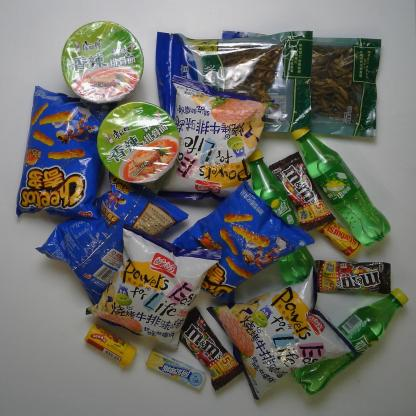Candy: (82, 321, 140, 371), (143, 348, 208, 392), (314, 214, 365, 261)
Chocolate: (172, 306, 248, 393), (266, 151, 338, 235), (310, 258, 395, 298)
Dried Food: (214, 27, 384, 142), (153, 29, 317, 138)
Drink: (288, 120, 392, 249), (289, 286, 409, 396), (243, 146, 318, 288)
Instant Noodles: (60, 19, 145, 105), (96, 100, 181, 185)
Puffed Food: (31, 165, 191, 311), (204, 264, 359, 402), (81, 219, 225, 354), (172, 176, 318, 307), (154, 71, 278, 207), (11, 81, 122, 226)
